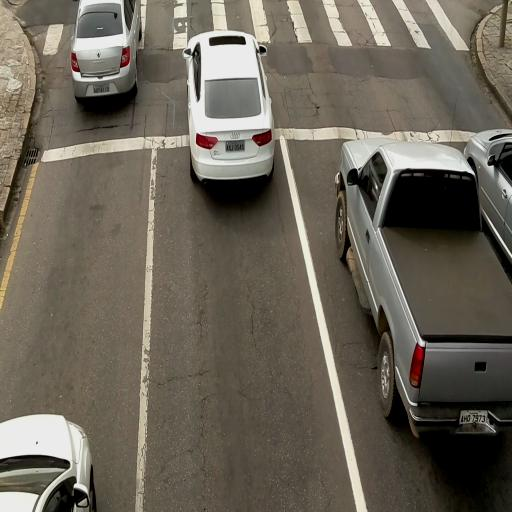car: (330, 122, 508, 441), (182, 29, 272, 186), (0, 413, 97, 510), (462, 129, 512, 287), (69, 2, 142, 102)
